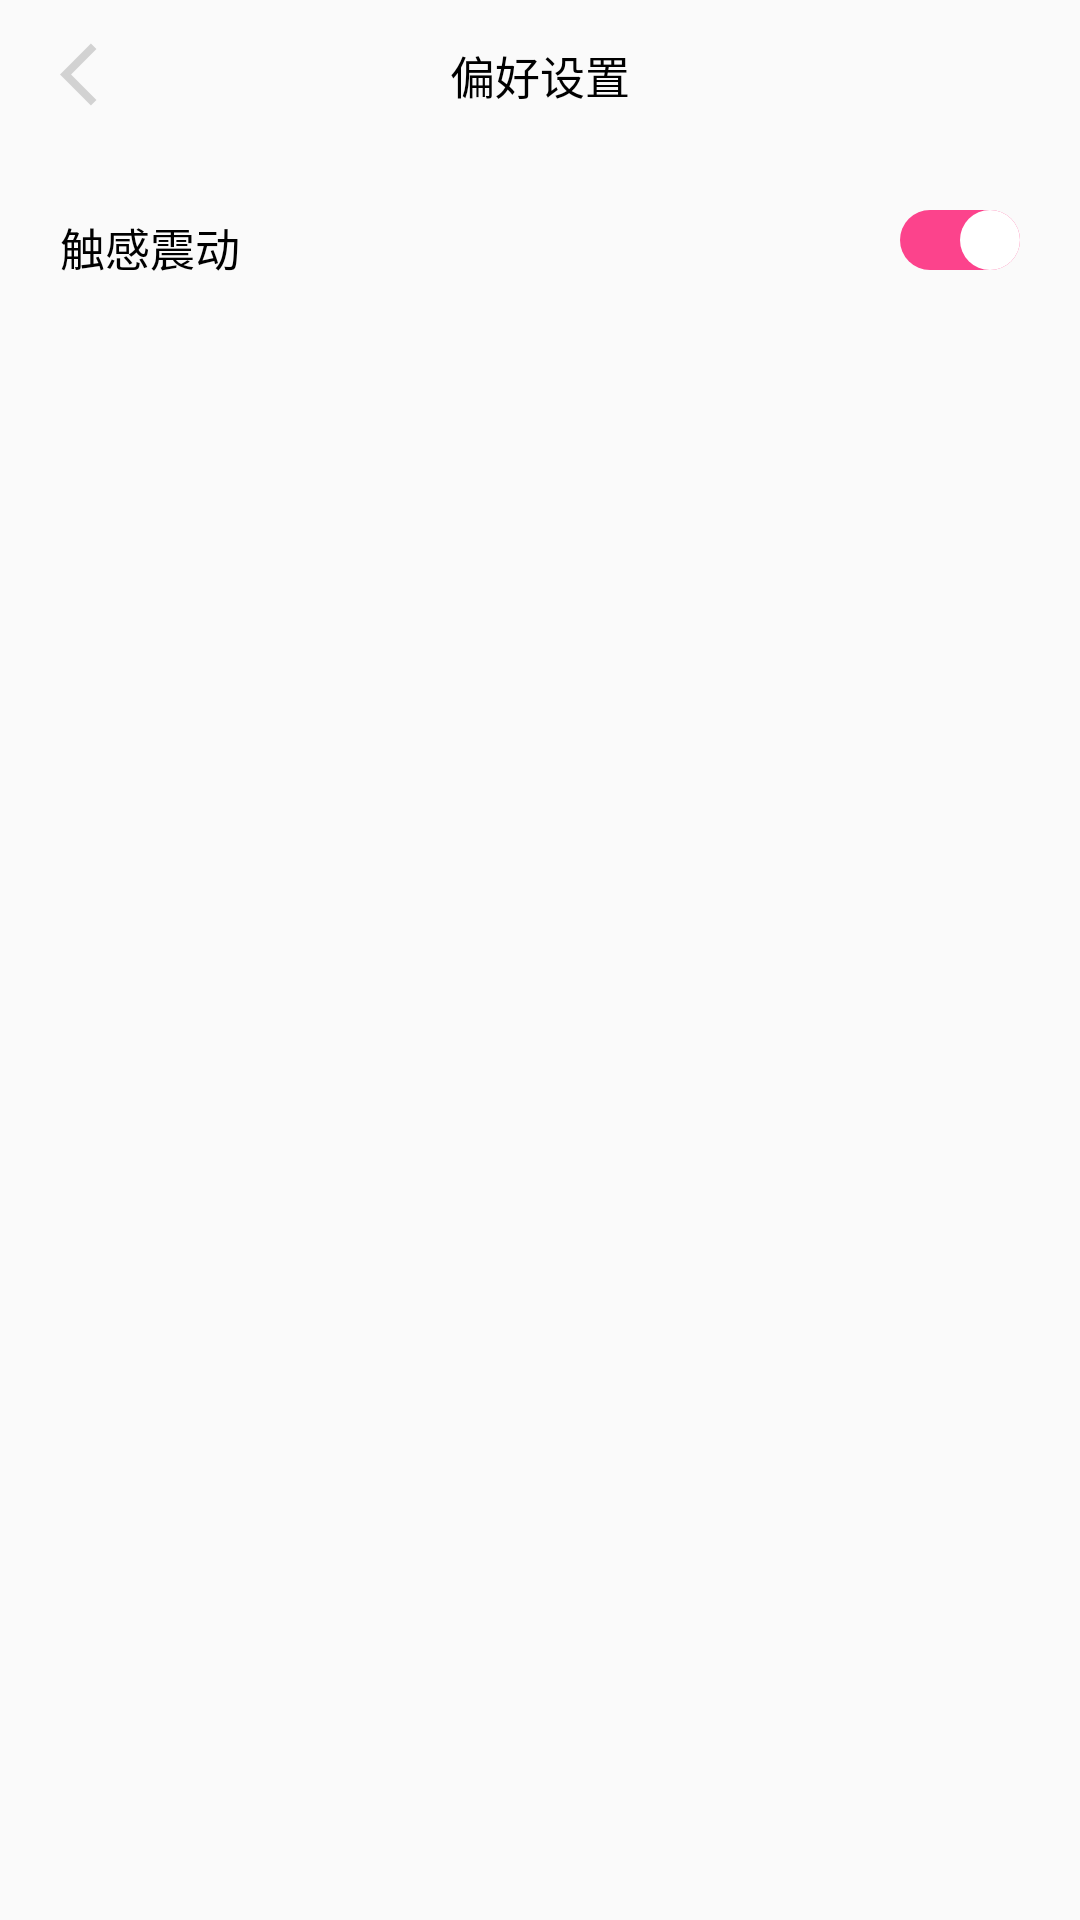

Named icons in this screenshot (1080w x 1920h) and their centers, (x=x, y=y):
login back arrow: (x=78, y=74)
